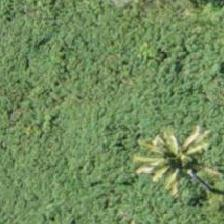coconut_tree: (135, 140, 223, 223)
